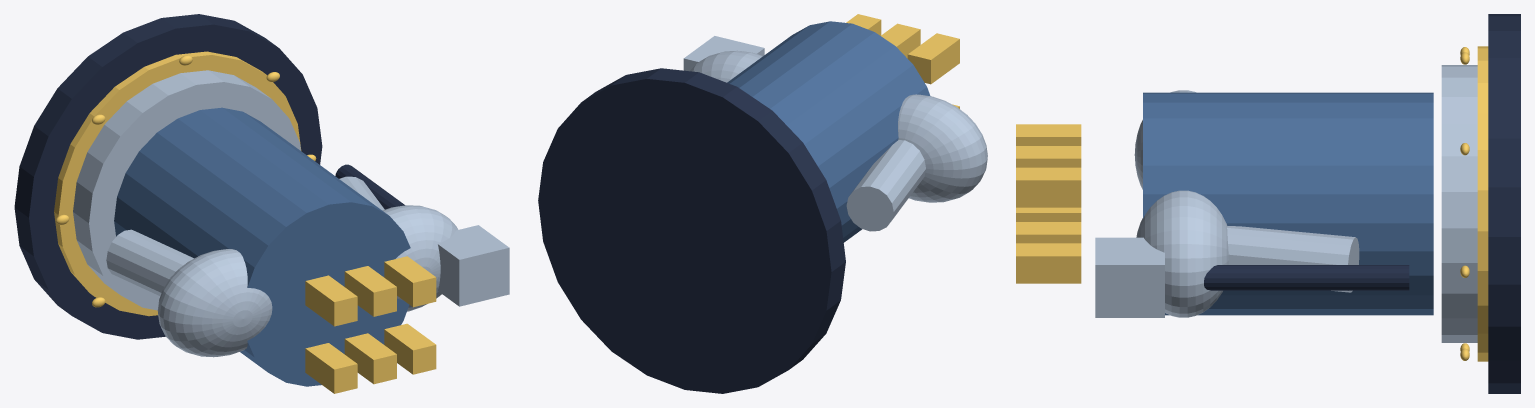
Rendered from hero_rook.glb.
3 renders of one model, left to right at view 1: azimuth 30°, elevation 25°; view 2: azimuth 150°, elevation 25°; view 3: azimuth 270°, elevation 25°, orthographic. The views are drawn at different scales.
Visible parts, largest first — view 1: body, base, base2, shoulder-1, ring1, hammer, arm-1, shoulder1, turret-0.22-0.18, turret-0.220.18, turret0.22-0.18, turret0-0.18 (+4 smaller); view 2: base, body, shoulder-1, arm-1, turret-0.220.18, shoulder1, hammer, turret00.18, turret0.220.18; view 3: body, base, base2, shoulder1, hammer, hammerrod, arm1, ring1, turret0.22-0.18, turret0.220.18, turret-0.220.18, turret00.18 (+3 smaller).
Boxes of the visible parts, bbox=[...] form: body: bbox=[114, 107, 410, 386]; base: bbox=[14, 14, 322, 339]; base2: bbox=[73, 70, 300, 310]; shoulder-1: bbox=[157, 249, 272, 357]; ring1: bbox=[54, 51, 301, 316]; hammer: bbox=[438, 225, 509, 306]; arm-1: bbox=[106, 229, 193, 295]; shoulder1: bbox=[382, 205, 458, 311]; turret-0.22-0.18: bbox=[305, 343, 357, 393]; turret-0.220.18: bbox=[305, 275, 357, 326]; turret0.22-0.18: bbox=[384, 323, 436, 374]; turret0-0.18: bbox=[344, 333, 396, 384]; base: bbox=[538, 68, 845, 393]; body: bbox=[727, 21, 930, 242]; shoulder-1: bbox=[898, 94, 987, 202]; arm-1: bbox=[846, 140, 925, 231]; turret-0.220.18: bbox=[907, 33, 959, 84]; shoulder1: bbox=[690, 50, 762, 82]; hammer: bbox=[683, 36, 764, 71]; turret00.18: bbox=[881, 23, 920, 58]; turret0.220.18: bbox=[846, 14, 881, 35]; body: bbox=[1143, 92, 1433, 315]; base: bbox=[1488, 14, 1520, 393]; base2: bbox=[1441, 65, 1477, 342]; shoulder1: bbox=[1136, 190, 1228, 317]; hammer: bbox=[1095, 237, 1164, 317]; hammerrod: bbox=[1204, 265, 1409, 290]; arm1: bbox=[1227, 226, 1359, 292]; ring1: bbox=[1477, 46, 1488, 361]; turret0.22-0.18: bbox=[1016, 243, 1081, 283]; turret0.220.18: bbox=[1016, 167, 1081, 207]; turret-0.220.18: bbox=[1016, 124, 1081, 145]; turret00.18: bbox=[1016, 146, 1081, 167].
Size of the model in its own units: 1.72 by 1.64 by 2.17.
